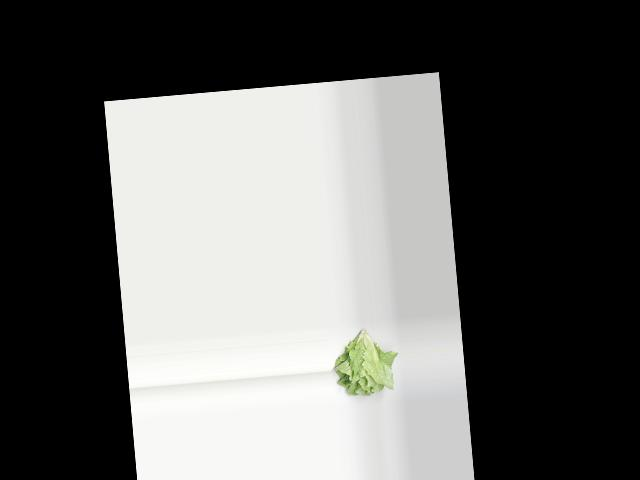lettuce: (330, 324, 401, 399)
